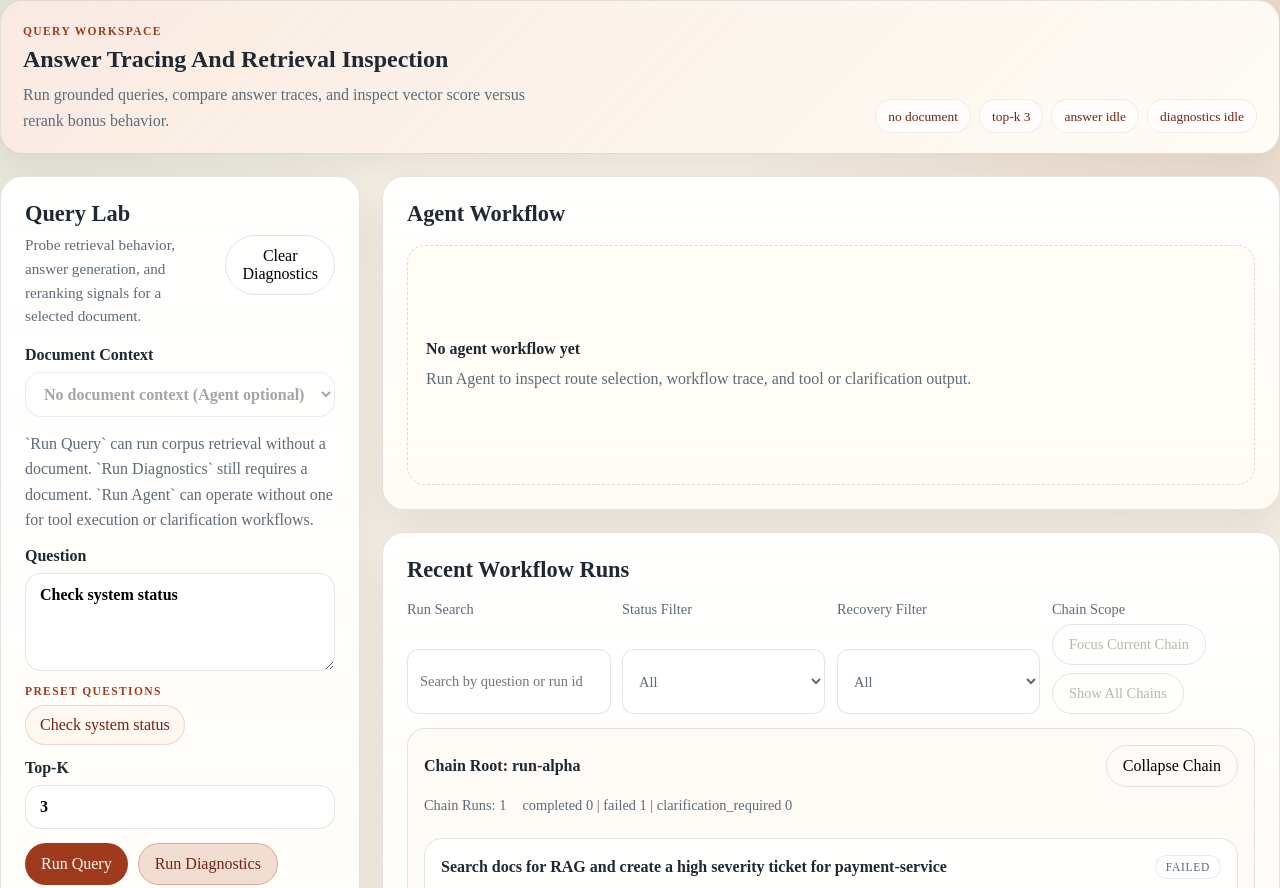
Test: QueryView › filters recent workflow runs by search and recovery action
Select "manual_retrigger" in the dropdown labelled "Recovery Filter" at x=938, y=682, box x1=837 y1=649 x2=1040 y2=714
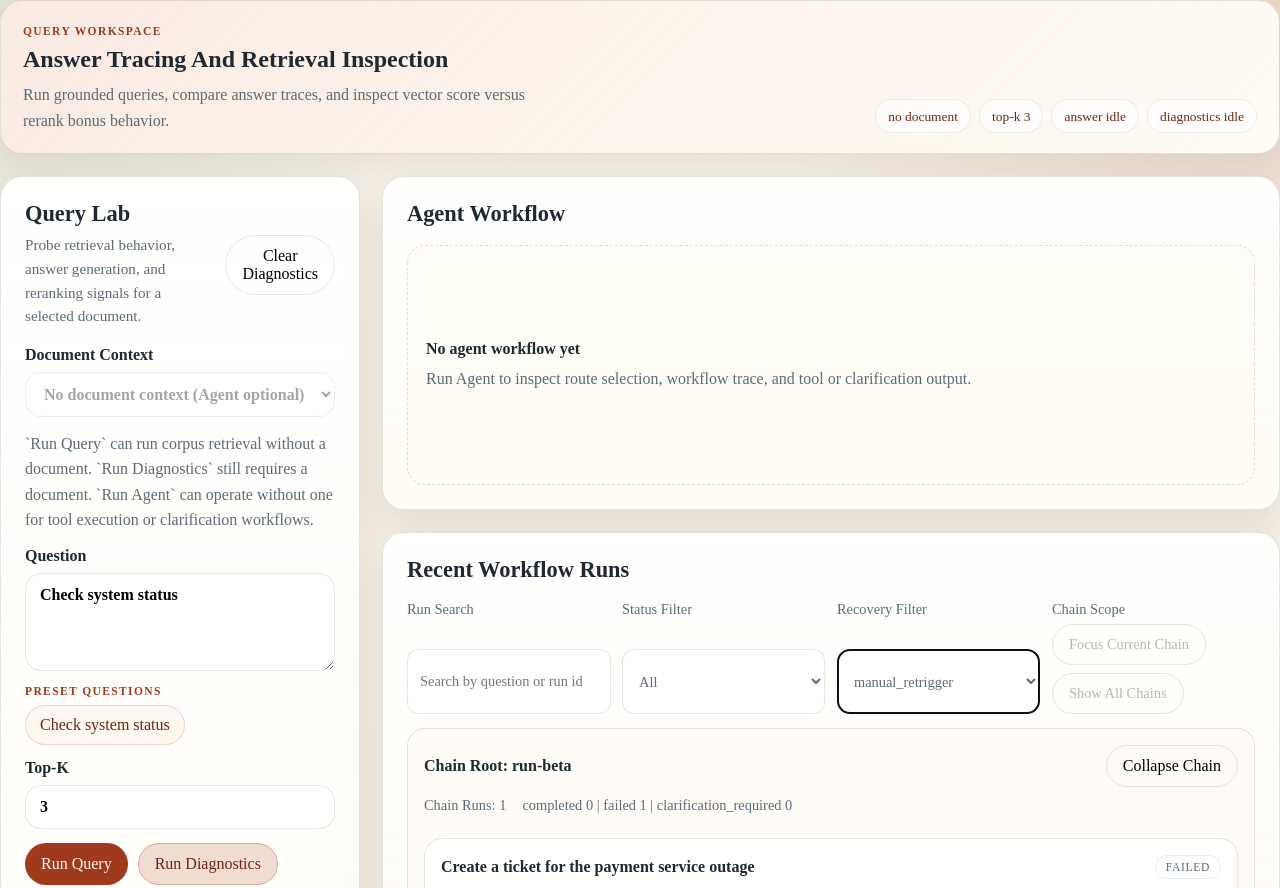
Expected: the text "Create a ticket for the payment service outage" is shown, x1=441 y1=858 x2=754 y2=875
Expected: the text "Search docs for RAG and create a high severity ticket for payment-service" is not shown
Type "alpha" into the field labelled "Run Search" at x=509, y=682, box x1=407 y1=649 x2=611 y2=714
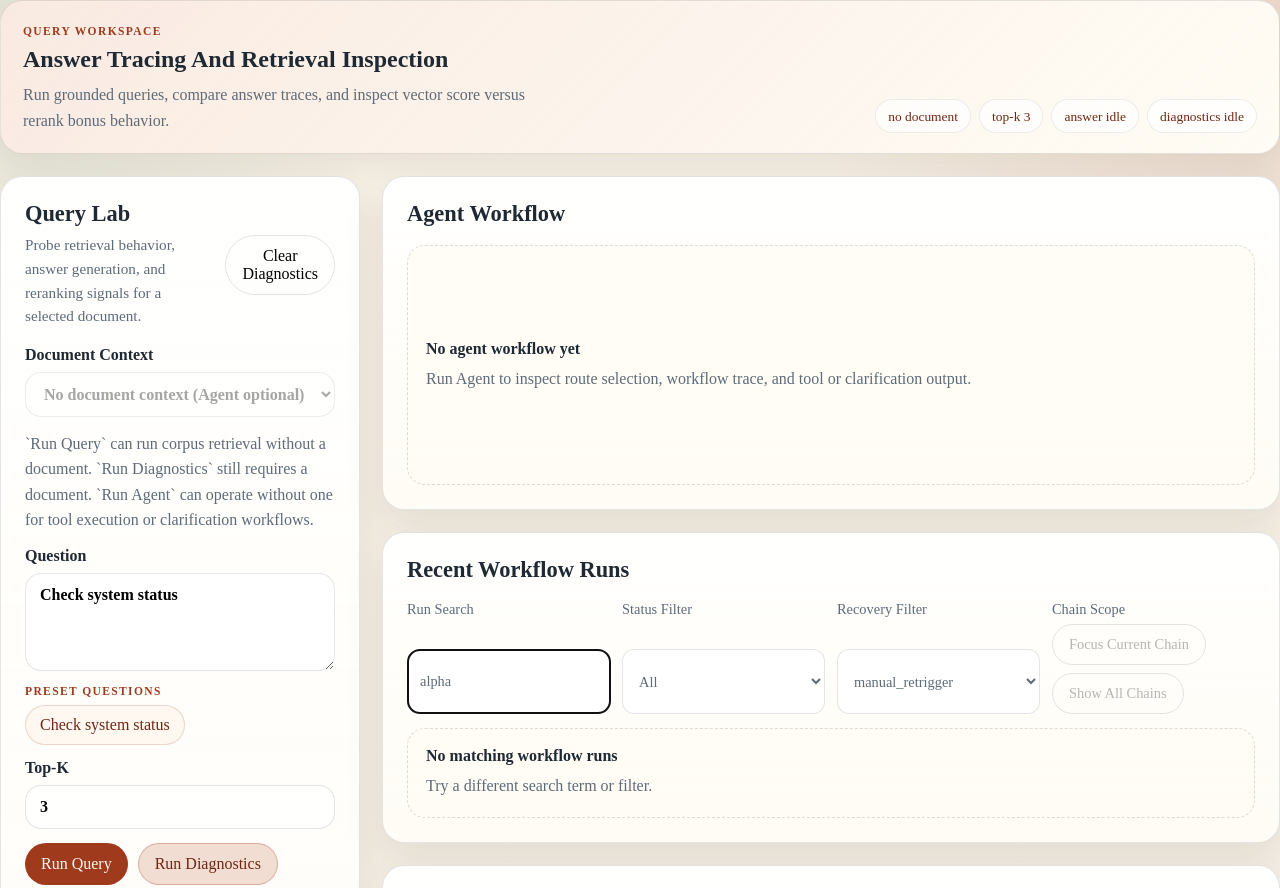
Expected: the text "No matching workflow runs" is shown, x1=426 y1=747 x2=618 y2=764
